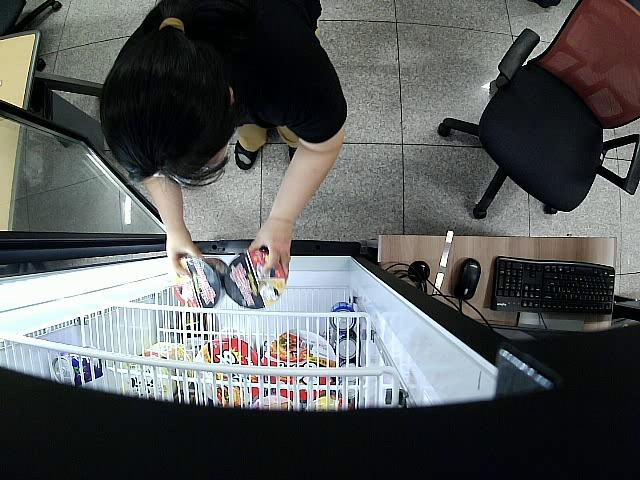00_hand: (246, 222, 293, 282), (165, 231, 200, 278)
07_buldak_L: (225, 253, 286, 310), (175, 256, 223, 311)
